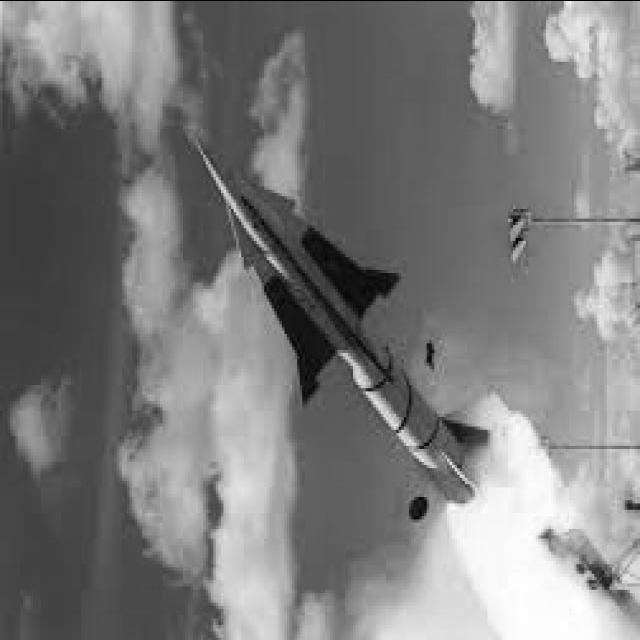missile: (185, 112, 523, 534), (172, 110, 498, 513)
